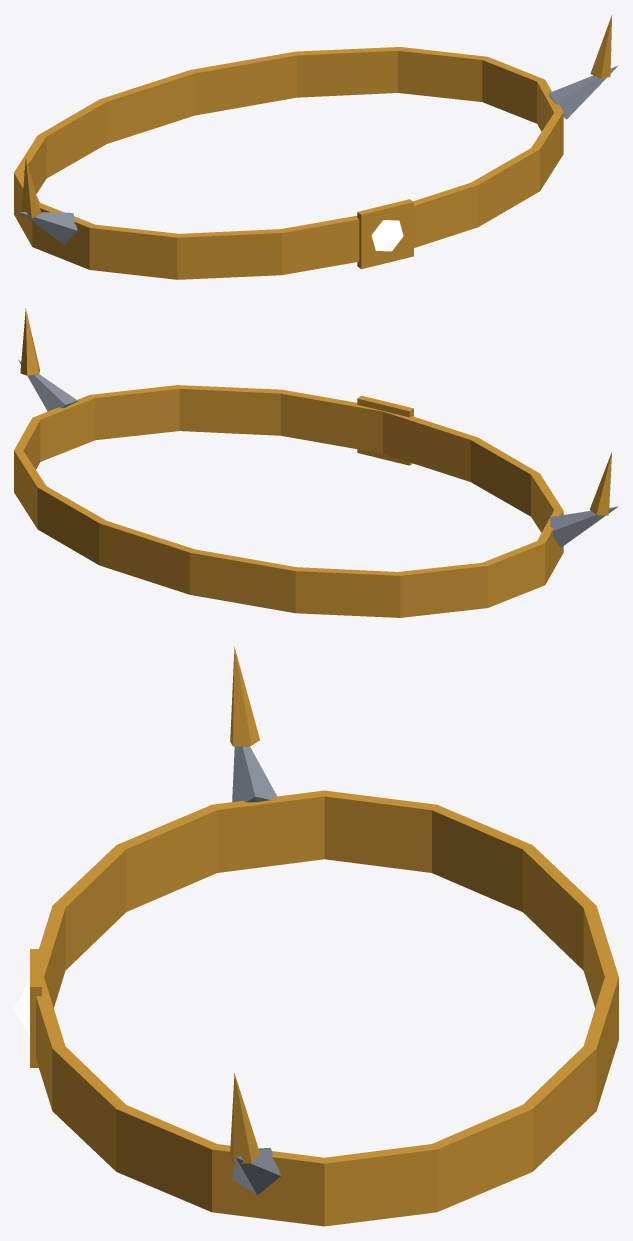
File: armor_lord_head_epic_orc.glb
3 views of the same model, one above another, from view 1: azimuth 30°, elevation 25°; view 2: azimuth 150°, elevation 25°; view 3: azimuth 270°, elevation 25° (orthographic). The views are drawn at different scales.
Visible parts, largest first — view 1: armor_lord_head_epic_orc__head; view 2: armor_lord_head_epic_orc__head; view 3: armor_lord_head_epic_orc__head.
Boxes of the visible parts, <box> form: armor_lord_head_epic_orc__head: <box>14,15,618,279</box>; armor_lord_head_epic_orc__head: <box>14,308,618,617</box>; armor_lord_head_epic_orc__head: <box>14,647,618,1226</box>.
Size of the model in its own units: 103 by 20.79 by 60.21.
